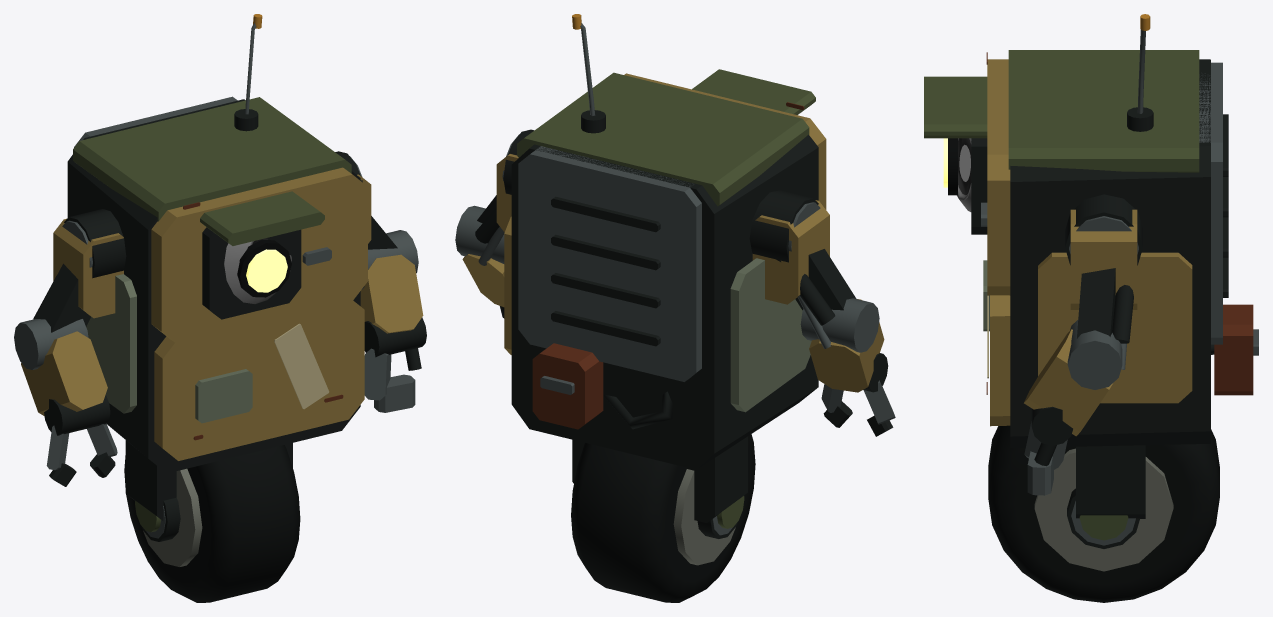
Rendered from KLONK.lo.glb.
3 renders of one model, left to right at view 1: azimuth 30°, elevation 25°; view 2: azimuth 150°, elevation 25°; view 3: azimuth 270°, elevation 25°, orthographic. The views are drawn at different scales.
Parts seen in each view (by area): view 1: body_geometry, wheel_geometry, armL_geometry, armR_geometry; view 2: body_geometry, wheel_geometry, armL_geometry, armR_geometry; view 3: body_geometry, wheel_geometry, armR_geometry.
Boxes of the visible parts, x1,y1,x2,y2 form: body_geometry: (64, 14, 367, 538); wheel_geometry: (124, 445, 300, 602); armL_geometry: (14, 218, 123, 486); armR_geometry: (350, 156, 426, 412); body_geometry: (503, 14, 826, 535); wheel_geometry: (571, 434, 755, 602); armL_geometry: (752, 200, 895, 436); armR_geometry: (455, 134, 519, 318); body_geometry: (924, 14, 1258, 545); wheel_geometry: (988, 425, 1219, 602); armR_geometry: (1024, 209, 1138, 495).
Bounding box in the file's own units: 0.5896 × 0.8005 × 0.4007.
Materials: 2 (1 with a texture image).
